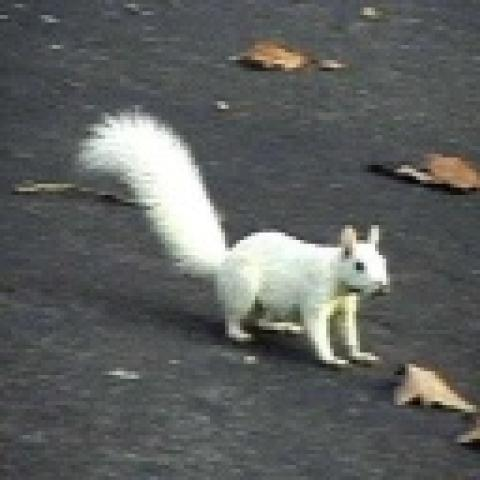small_animal: (84, 101, 398, 371)
